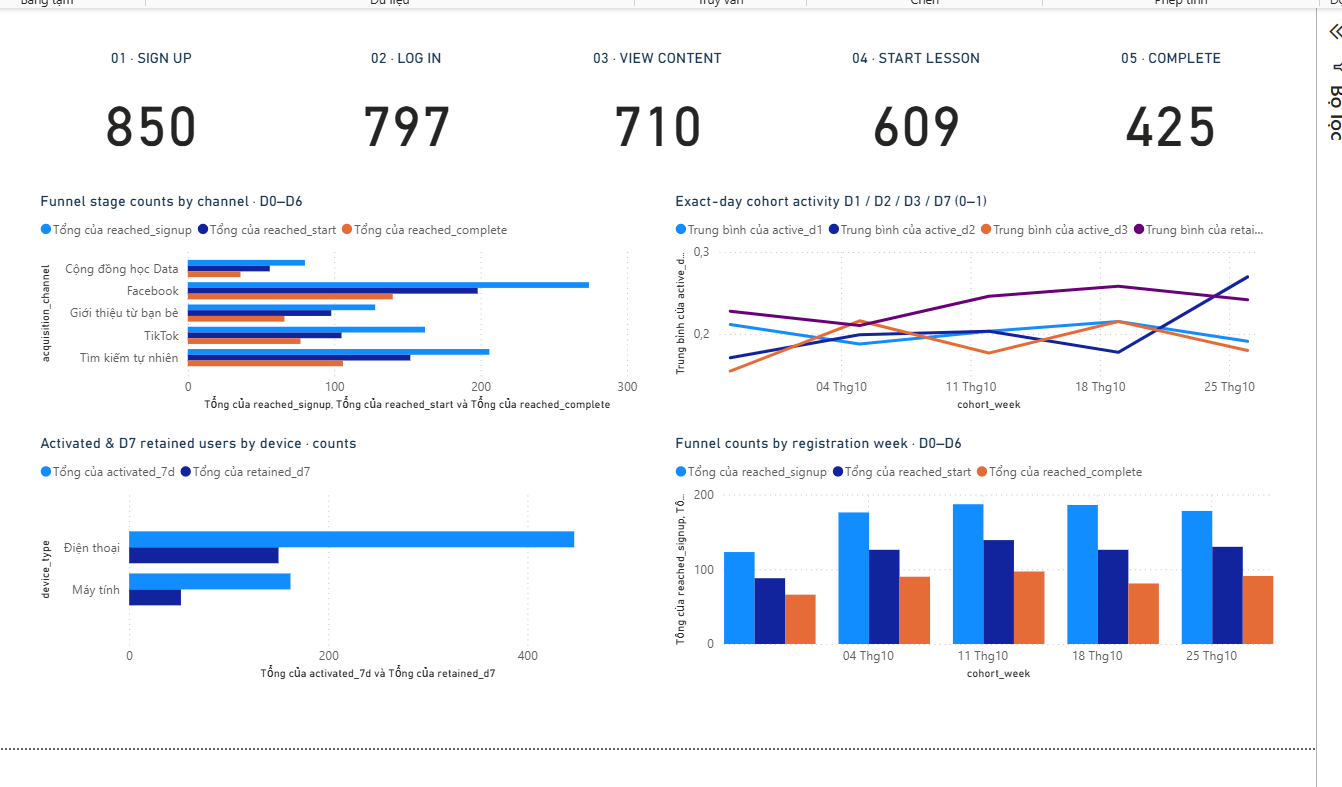

The page's visual inventory and layout, read from the dashboard file:
{"tool":"powerbi","page":{"name":"02 | Funnel & Cohorts","canvas":[1280,720],"ordinal":1},"visuals":[{"type":"card","title":"\t01 · SIGN UP","fields":{"Values":["Sum(vw_user_metrics.reached_signup)"]},"box":[34,40,226,120],"z":0},{"type":"card","title":"02 · LOG IN","fields":{"Values":["Sum(vw_user_metrics.reached_login)"]},"box":[282,40,226,120],"z":1000},{"type":"card","title":"03 · VIEW CONTENT","fields":{"Values":["Sum(vw_user_metrics.reached_view)"]},"box":[526.4,40.1,226.1,120.4],"z":2000},{"type":"card","title":"04 · START LESSON","fields":{"Values":["Sum(vw_user_metrics.reached_start)"]},"box":[778,40,226,120],"z":3000},{"type":"card","title":"05 · COMPLETE","fields":{"Values":["Sum(vw_user_metrics.reached_complete)"]},"box":[1026,40,226,120],"z":4000},{"type":"clusteredBarChart","title":"Funnel stage counts by channel · D0–D6","fields":{"Category":["vw_user_metrics.acquisition_channel"],"Y":["Sum(vw_user_metrics.reached_signup)","Sum(vw_user_metrics.reached_start)","Sum(vw_user_metrics.reached_complete)"]},"box":[34,179,591,218],"z":5000},{"type":"lineChart","title":"Exact-day cohort activity D1 / D2 / D3 / D7 (0–1)","fields":{"Category":["vw_user_metrics.cohort_week"],"Y":["Average(vw_user_metrics.active_d1)","Average(vw_user_metrics.active_d2)","Average(vw_user_metrics.active_d3)","Average(vw_user_metrics.retained_d7)"]},"box":[652,179,592,218],"z":6000},{"type":"clusteredBarChart","title":"Activated & D7 retained users by device · counts","fields":{"Category":["vw_user_metrics.device_type"],"Y":["Sum(vw_user_metrics.activated_7d)","Sum(vw_user_metrics.retained_d7)"]},"box":[34,414,591,244],"z":7000},{"type":"clusteredColumnChart","title":"Funnel counts by registration week · D0–D6","fields":{"Category":["vw_user_metrics.cohort_week"],"Y":["Sum(vw_user_metrics.reached_signup)","Sum(vw_user_metrics.reached_start)","Sum(vw_user_metrics.reached_complete)"]},"box":[652,414,592,244],"z":8000}]}

Visuals, with their boxes on the page's 1280x720 design canvas (x1, y1, x2, y2). These are canvas units, not pixel positions in the 1342x787 screenshot, which may show the page scaled, cropped or inside an application window:
"	01 · SIGN UP" card: [34, 40, 260, 160]
"02 · LOG IN" card: [282, 40, 508, 160]
"03 · VIEW CONTENT" card: [526, 40, 752, 160]
"04 · START LESSON" card: [778, 40, 1004, 160]
"05 · COMPLETE" card: [1026, 40, 1252, 160]
"Funnel stage counts by channel · D0–D6" clusteredBarChart: [34, 179, 625, 397]
"Exact-day cohort activity D1 / D2 / D3 / D7 (0–1)" lineChart: [652, 179, 1244, 397]
"Activated & D7 retained users by device · counts" clusteredBarChart: [34, 414, 625, 658]
"Funnel counts by registration week · D0–D6" clusteredColumnChart: [652, 414, 1244, 658]
